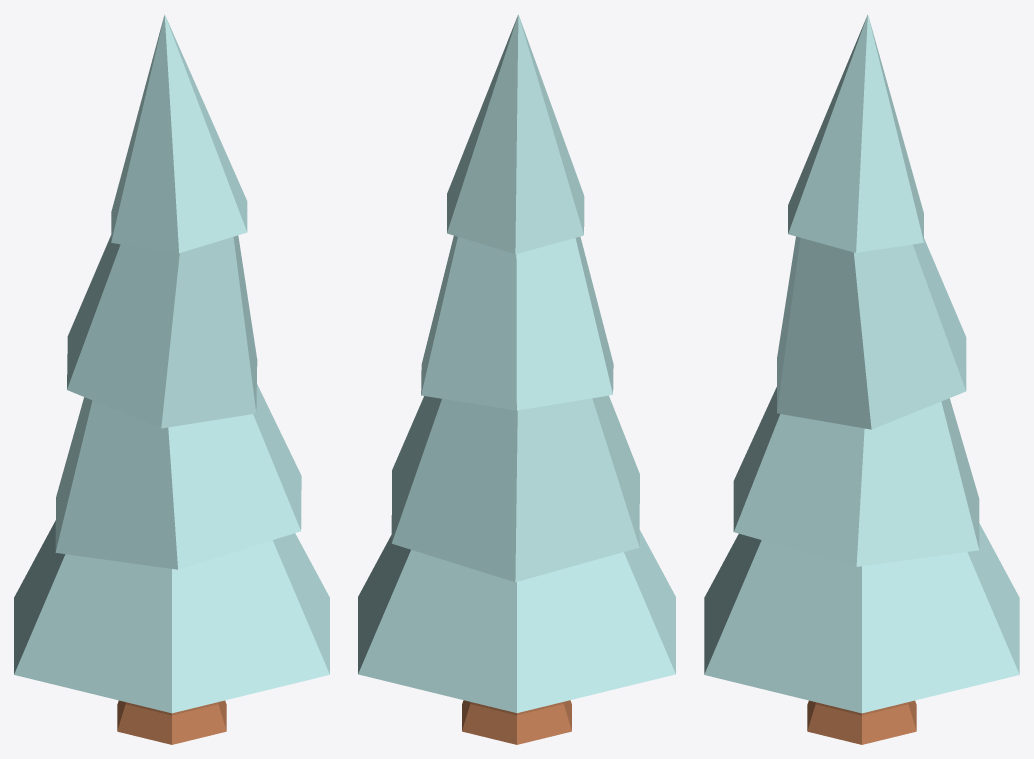
Rendered from treePineSnowed.dae.
3 views of the same model, side by side, from view 1: azimuth 30°, elevation 25°; view 2: azimuth 150°, elevation 25°; view 3: azimuth 270°, elevation 25° (orthographic).
Parts seen in each view (by area): view 1: treePineSnowed; view 2: treePineSnowed; view 3: treePineSnowed.
Boxes of the visible parts, <box> form: treePineSnowed: <box>14,14,329,744</box>; treePineSnowed: <box>358,14,675,744</box>; treePineSnowed: <box>704,14,1019,744</box>.
Size of the model in its own units: 0.7517 by 1.6 by 0.651.
